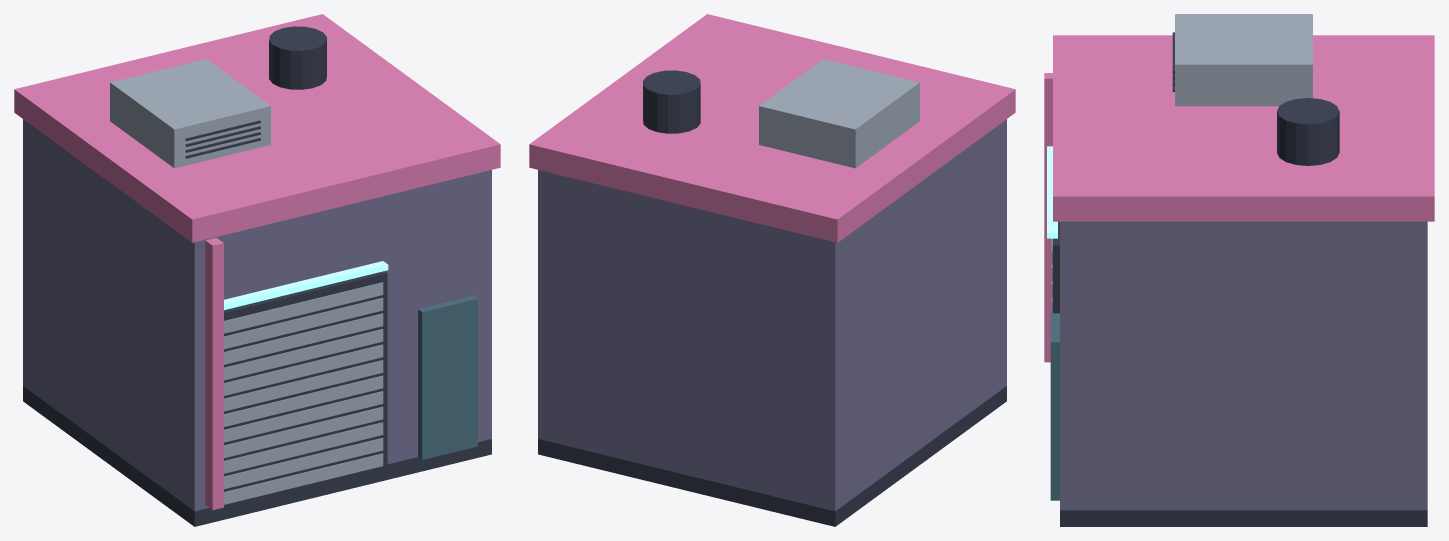
Rendered from neon-dispatch-stacked-parcel-hub__166.glb.
The picture shows the model from 3 angles, left to right: view 1: azimuth 30°, elevation 25°; view 2: azimuth 150°, elevation 25°; view 3: azimuth 270°, elevation 25°; orthographic projection. The views are drawn at different scales.
Parts seen in each view (by area): view 1: shell, accent, metal, dark, glass, light; view 2: shell, accent, metal, dark; view 3: shell, accent, metal, dark, glass, light.
Part boxes in pixels (left/top/right/bottom): shell: left=23, top=119, right=491, bottom=511; accent: left=14, top=14, right=500, bottom=509; metal: left=110, top=59, right=383, bottom=504; dark: left=23, top=26, right=491, bottom=526; glass: left=418, top=295, right=477, bottom=459; light: left=224, top=261, right=388, bottom=309; shell: left=538, top=119, right=1006, bottom=511; accent: left=529, top=14, right=1015, bottom=242; metal: left=759, top=59, right=919, bottom=168; dark: left=538, top=70, right=1006, bottom=526; shell: left=1060, top=221, right=1427, bottom=510; accent: left=1044, top=35, right=1434, bottom=362; metal: left=1051, top=14, right=1312, bottom=313; dark: left=1052, top=32, right=1427, bottom=526; glass: left=1050, top=313, right=1059, bottom=500; light: left=1047, top=146, right=1057, bottom=238.
Bounding box in the file's own units: 4.15 × 4.5 × 4.25.
